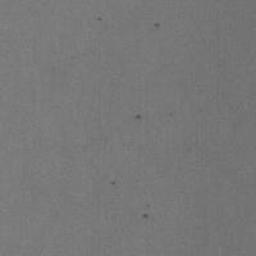Inclusion: (142, 212, 150, 220), (136, 113, 143, 120)
